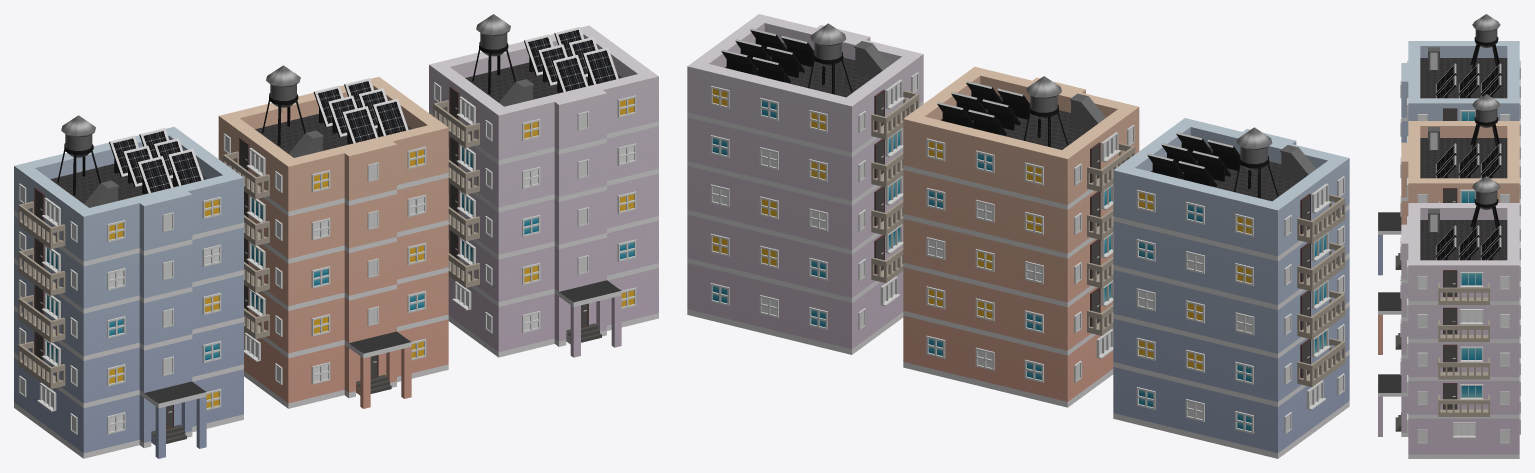
The model's file is House2.fbx.
3 views of the same model, side by side, from view 1: azimuth 30°, elevation 25°; view 2: azimuth 150°, elevation 25°; view 3: azimuth 270°, elevation 25° (orthographic). The views are drawn at different scales.
Visible parts, largest first — view 1: House_8, House_7, House_5; view 2: House_8, House_7, House_5; view 3: House_7, House_5, House_8.
Part boxes in pixels (left/top/right/bottom): House_8: left=14, top=115, right=243, bottom=458; House_7: left=429, top=14, right=658, bottom=357; House_5: left=218, top=65, right=448, bottom=408; House_8: left=1113, top=118, right=1349, bottom=458; House_7: left=687, top=14, right=923, bottom=354; House_5: left=903, top=66, right=1139, bottom=407; House_7: left=1378, top=176, right=1520, bottom=458; House_5: left=1378, top=94, right=1520, bottom=354; House_8: left=1378, top=14, right=1520, bottom=275.
Size of the model in its own units: 5074 by 2386 by 1301.
